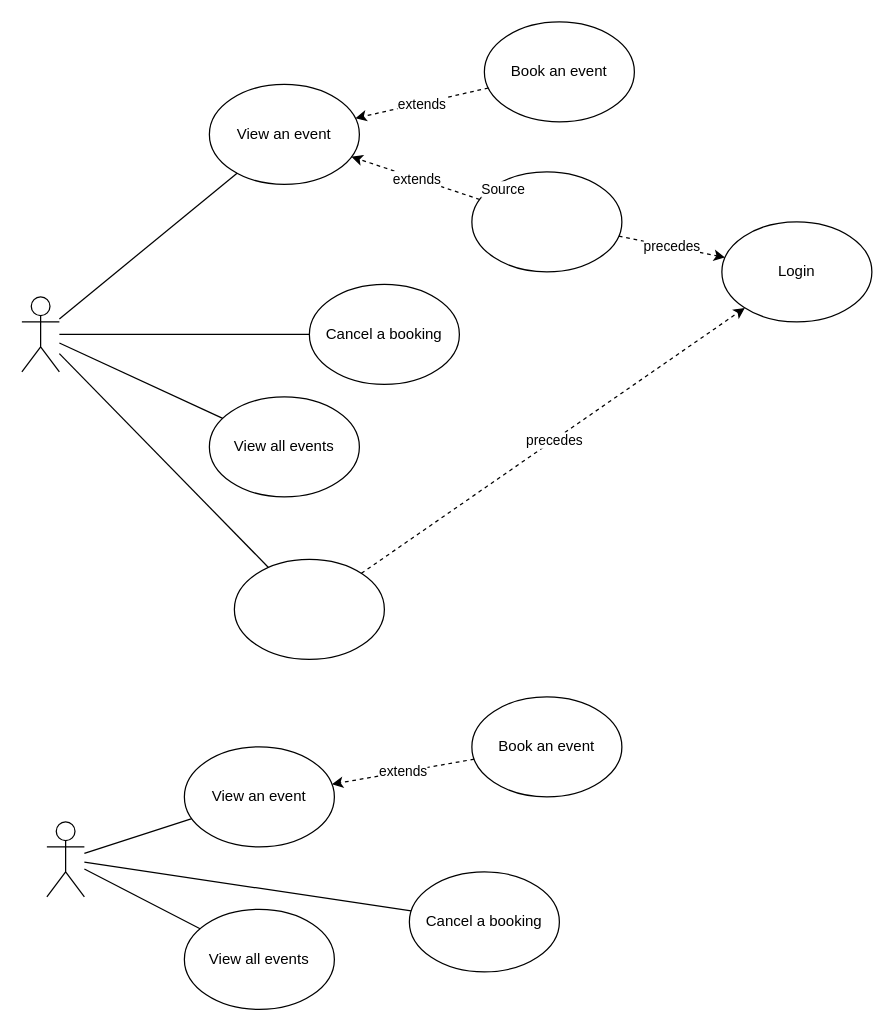
Image size: 894x1031. Some labels were removed from this diagram. The centre of each missing label's shape, as x and y in pixels:
Add event: pixel 308 608
Cancel an event: pixel 546 221
Customer: pixel 65 859
Staff: pixel 40 334
